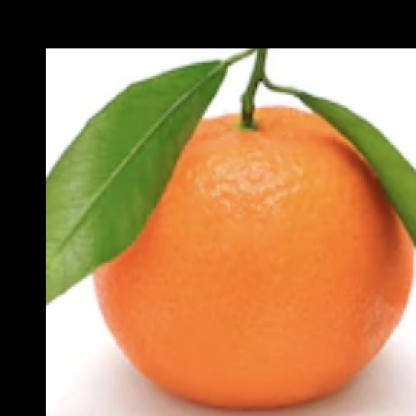fresh: (95, 104, 399, 416)
